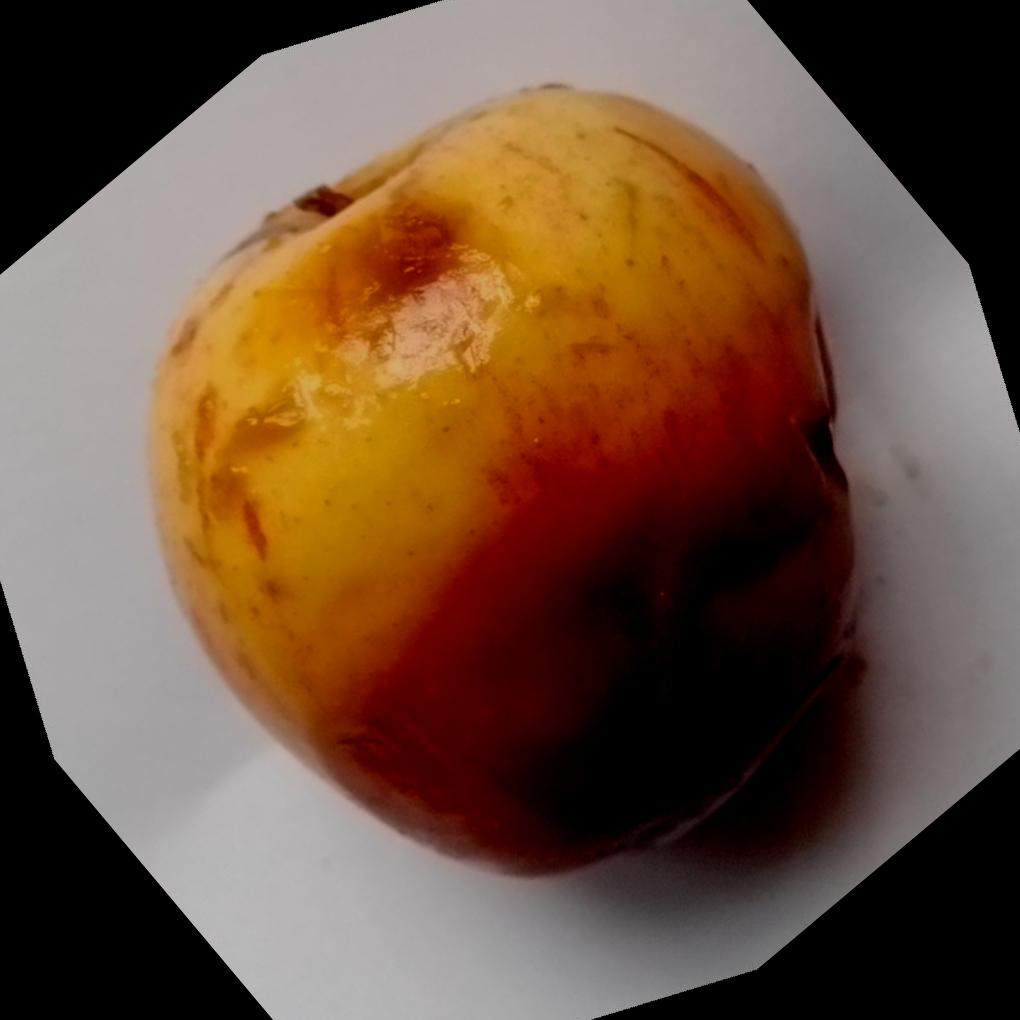FreshOrange: (139, 78, 861, 878)
